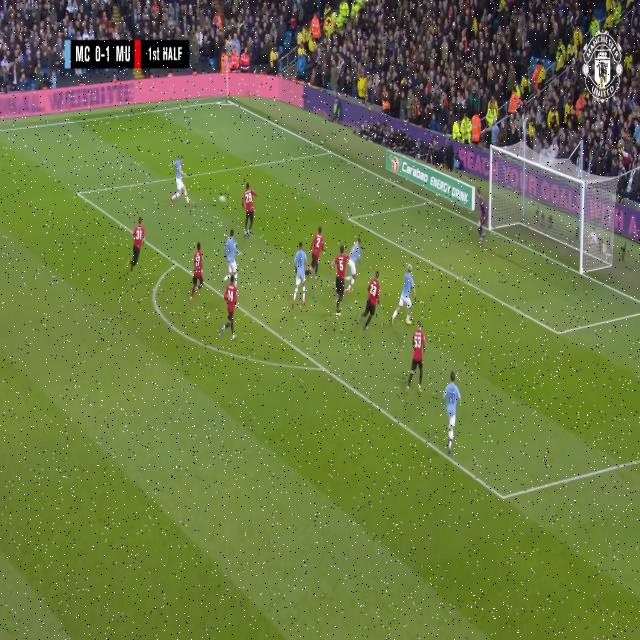Ball: (218, 194, 228, 206)
GoalKeeper: (359, 272, 382, 332), (476, 192, 488, 245)
TEAM 1: (407, 322, 428, 397), (331, 245, 349, 321), (168, 157, 190, 206), (130, 215, 146, 272), (242, 182, 258, 238), (225, 278, 239, 341), (190, 241, 204, 303), (310, 228, 325, 276)
TEAM 2: (392, 263, 418, 325), (442, 374, 461, 455), (291, 244, 308, 312), (222, 231, 240, 286), (346, 234, 360, 296)
